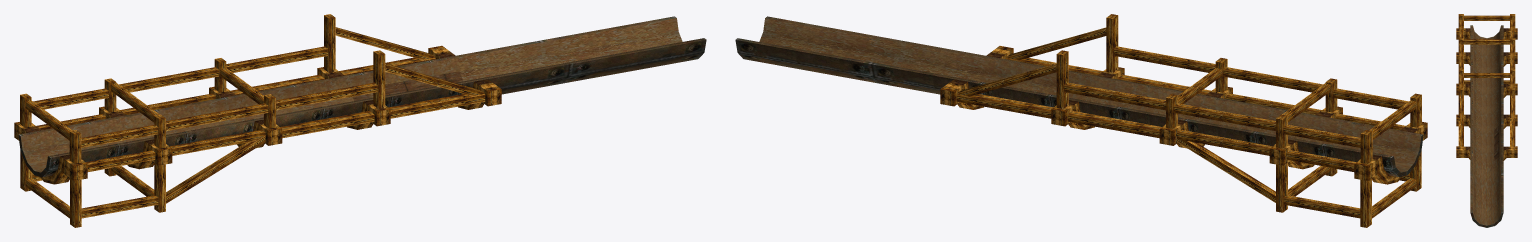
Rendered from FORGE_WATERDRAIN.obj.
3 renders of one model, left to right at view 1: azimuth 30°, elevation 25°; view 2: azimuth 150°, elevation 25°; view 3: azimuth 270°, elevation 25°, orthographic. The views are drawn at different scales.
Parts seen in each view (by area): view 1: orge_waterdrain; view 2: orge_waterdrain; view 3: orge_waterdrain.
Part boxes in pixels (x1,y1,x2,y2): orge_waterdrain: (14, 14, 706, 227); orge_waterdrain: (735, 14, 1427, 227); orge_waterdrain: (1456, 14, 1517, 227).
Size of the model in its own units: 2020 by 308 by 317.
